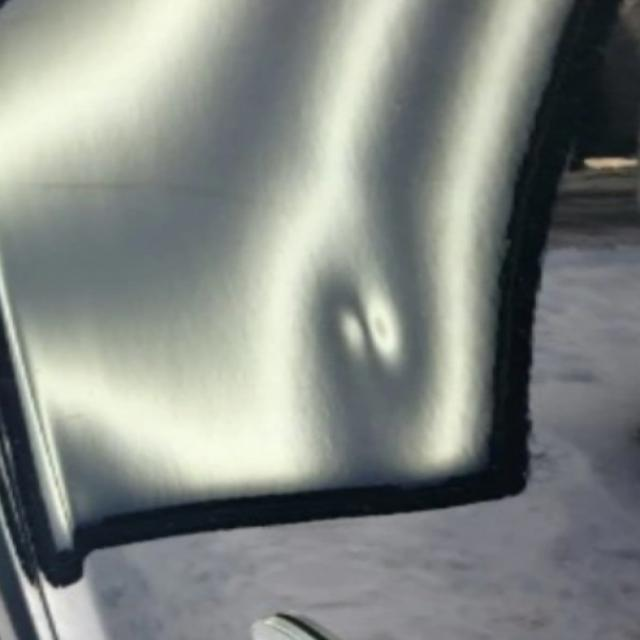dents: (310, 264, 445, 399)
